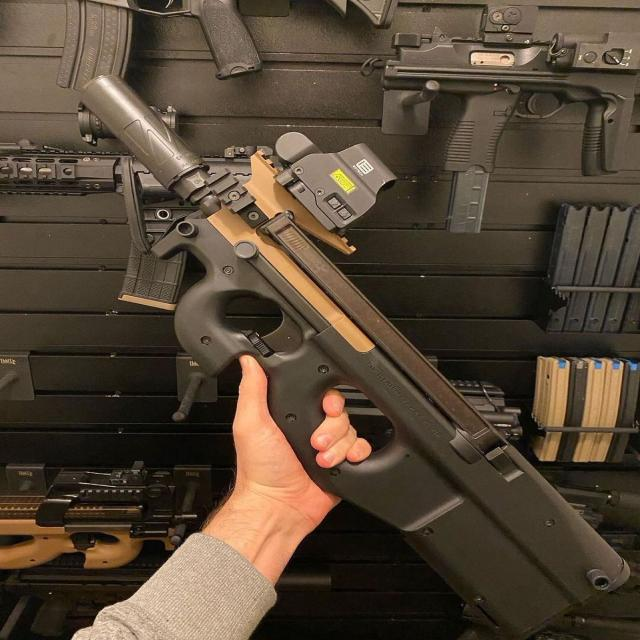Gun: (53, 69, 640, 632)
